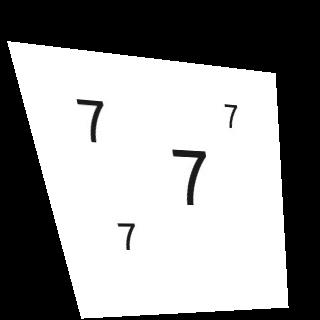seven: (157, 145, 218, 206), (65, 93, 115, 143), (110, 220, 142, 252), (218, 101, 247, 129)
